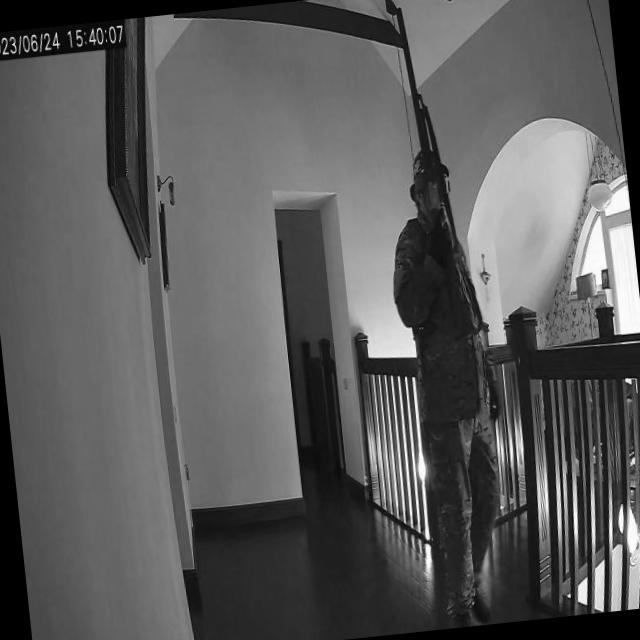gun: (394, 0, 480, 341)
person with a gun: (363, 2, 524, 628)
